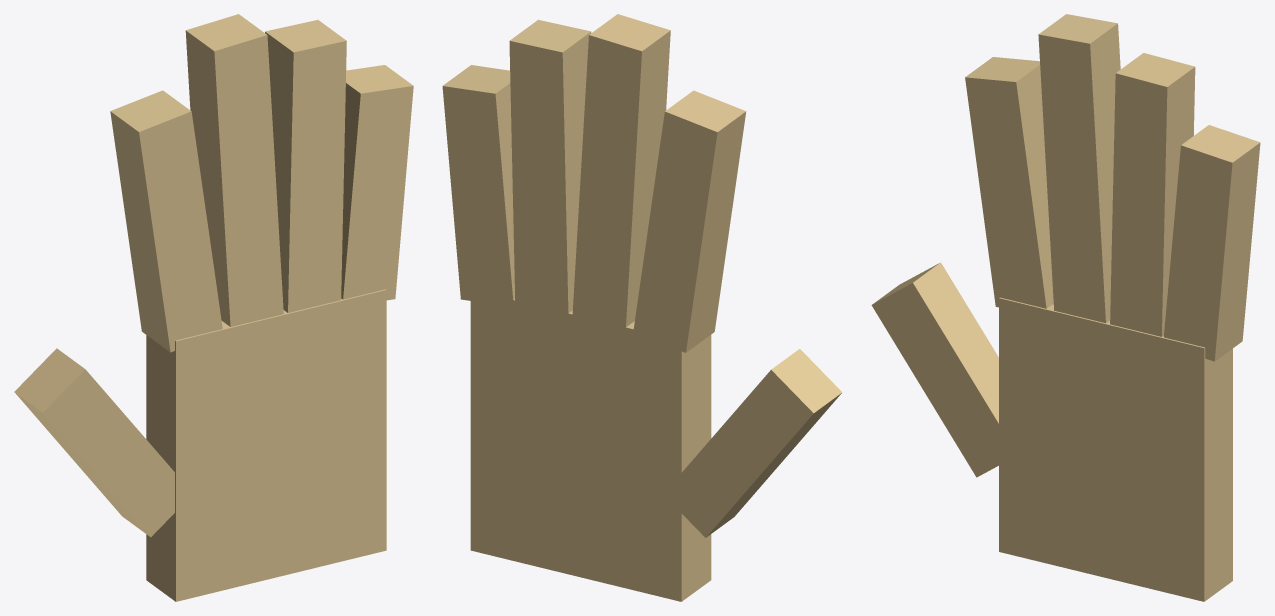
Rendered from hand_demo.FBX.
3 views of the same model, side by side, from view 1: azimuth 30°, elevation 25°; view 2: azimuth 150°, elevation 25°; view 3: azimuth 330°, elevation 25° (orthographic). The views are drawn at different scales.
Parts seen in each view (by area): view 1: Box001, Box004, Box003, Box005, Box006, Box002; view 2: Box001, Box004, Box003, Box005, Box006, Box002; view 3: Box001, Box004, Box005, Box006, Box003, Box002.
Part boxes in pixels (x1,y1,x2,y2): Box001: [146, 289, 386, 601]; Box004: [185, 14, 283, 326]; Box003: [110, 90, 222, 352]; Box005: [265, 20, 346, 312]; Box006: [341, 65, 413, 300]; Box002: [14, 348, 174, 537]; Box001: [470, 299, 711, 601]; Box004: [572, 14, 670, 332]; Box003: [633, 90, 746, 352]; Box005: [509, 19, 591, 315]; Box006: [442, 65, 514, 307]; Box002: [663, 349, 842, 537]; Box001: [999, 297, 1232, 601]; Box004: [1038, 14, 1120, 323]; Box005: [1110, 53, 1195, 336]; Box006: [1164, 125, 1260, 361]; Box003: [965, 57, 1053, 308]; Box002: [871, 262, 998, 477].
Size of the model in its own units: 63.08 by 88.38 by 8.74.
